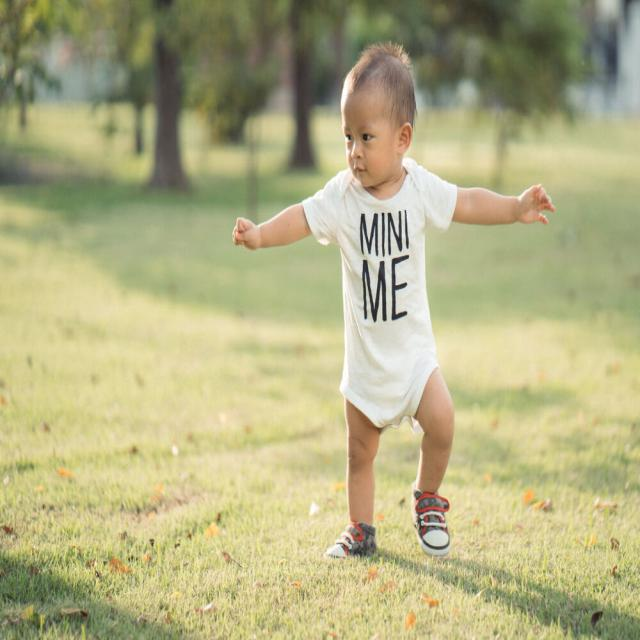Person: (234, 43, 556, 561)
